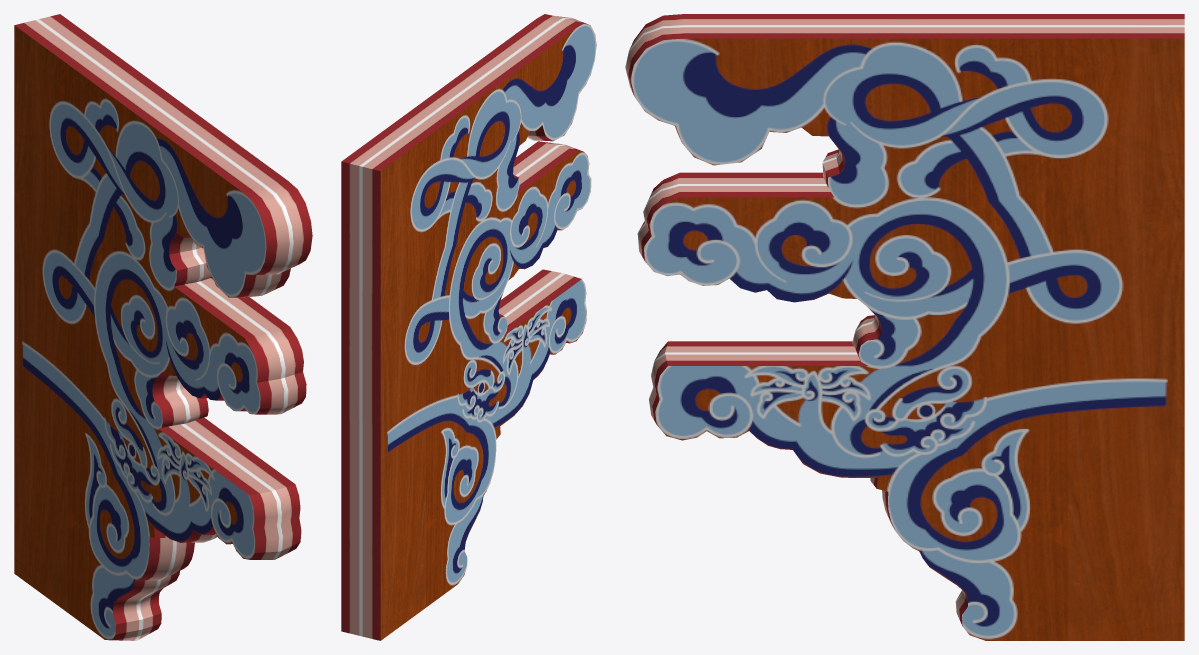
File: SM_Gongpo04O.fbx
The picture shows the model from 3 angles, left to right: view 1: azimuth 30°, elevation 25°; view 2: azimuth 150°, elevation 25°; view 3: azimuth 270°, elevation 25°; orthographic projection. The views are drawn at different scales.
Parts seen in each view (by area): view 1: SM_Gongpo04O; view 2: SM_Gongpo04O; view 3: SM_Gongpo04O.
Part boxes in pixels (left/top/right/bottom): SM_Gongpo04O: left=14, top=14, right=312, bottom=640; SM_Gongpo04O: left=341, top=14, right=596, bottom=640; SM_Gongpo04O: left=625, top=14, right=1184, bottom=640.
Size of the model in its own units: 6.75 by 64.95 by 77.16.
